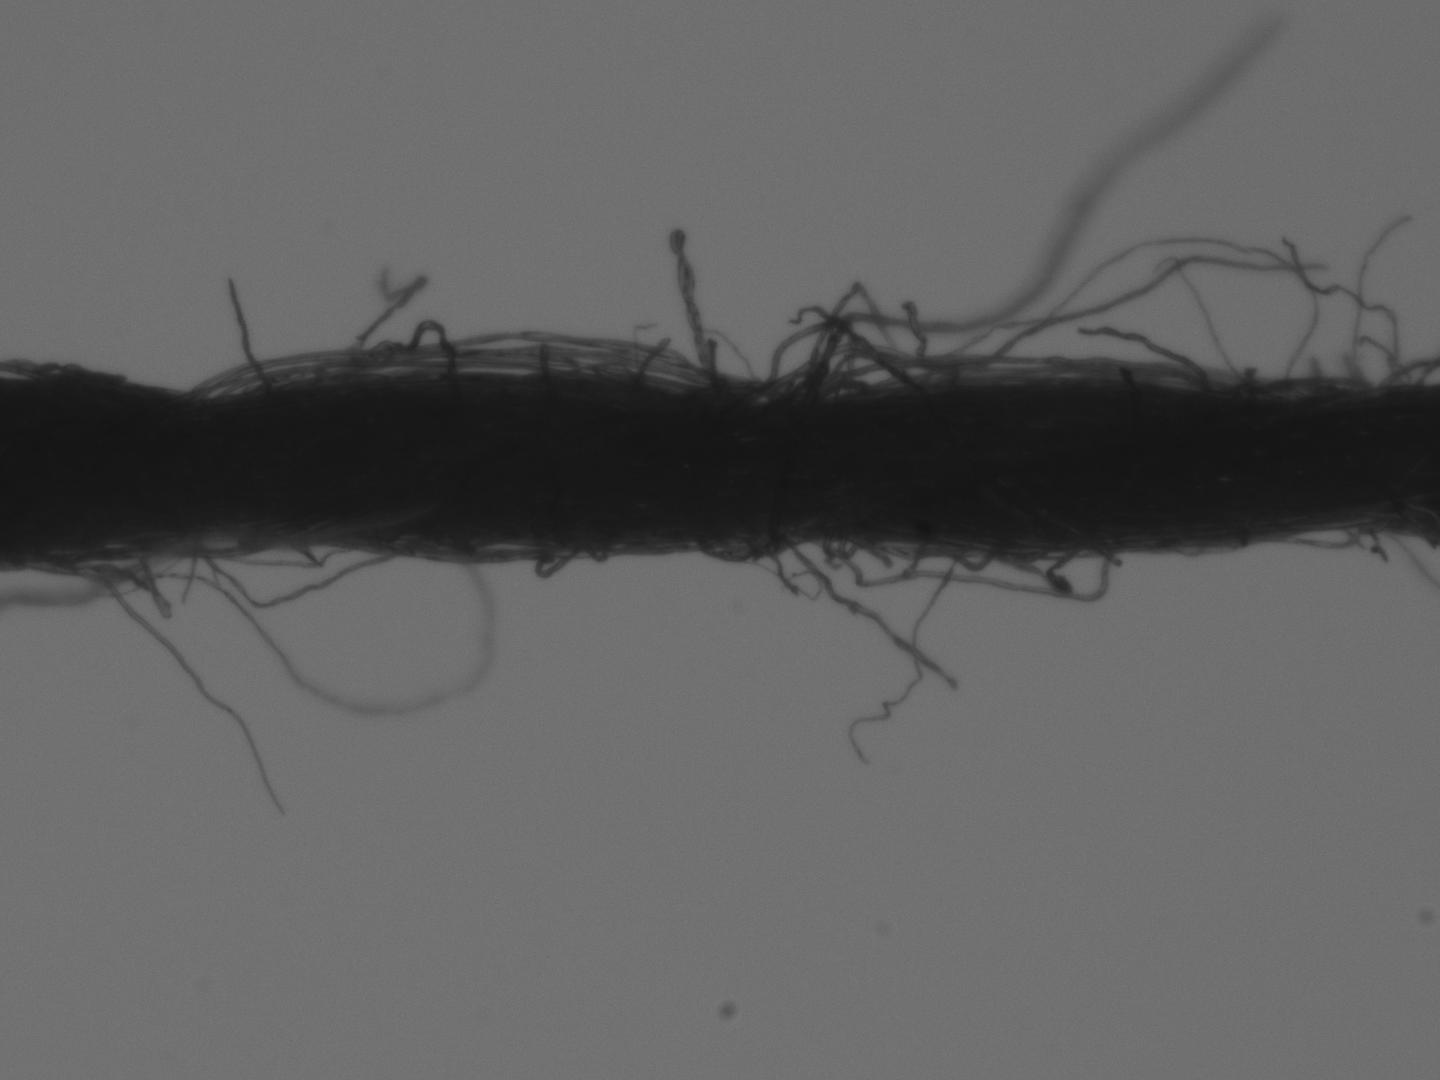loop_fiber: (948, 231, 1325, 414), (752, 286, 939, 399), (177, 533, 397, 614), (28, 538, 180, 627), (980, 517, 1133, 601), (313, 314, 459, 398), (1228, 505, 1389, 557), (865, 531, 1003, 576), (527, 528, 588, 589), (1339, 334, 1408, 387), (789, 529, 864, 575), (687, 535, 788, 563)
protruding_fiber: (1071, 323, 1239, 412), (221, 268, 277, 422)
